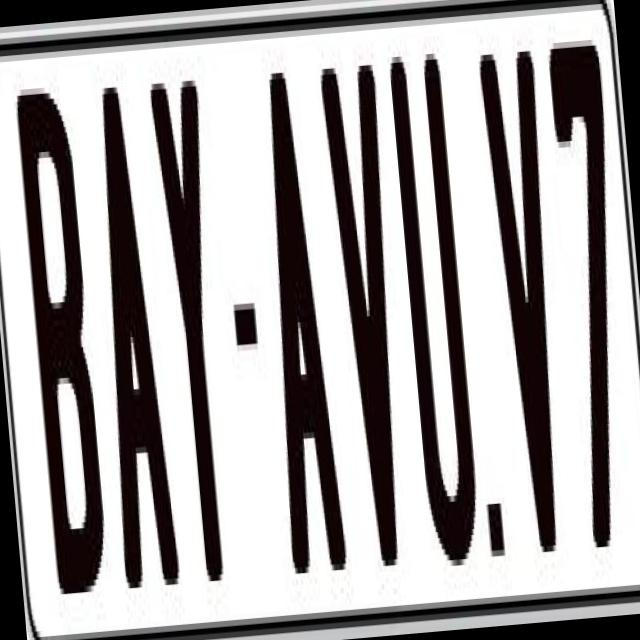7: (546, 33, 636, 560)
A: (248, 58, 356, 580), (82, 78, 182, 582)
B: (10, 73, 114, 582)
U: (388, 46, 492, 573)
V: (320, 64, 425, 579), (472, 33, 576, 548)
Y: (148, 68, 242, 571)
